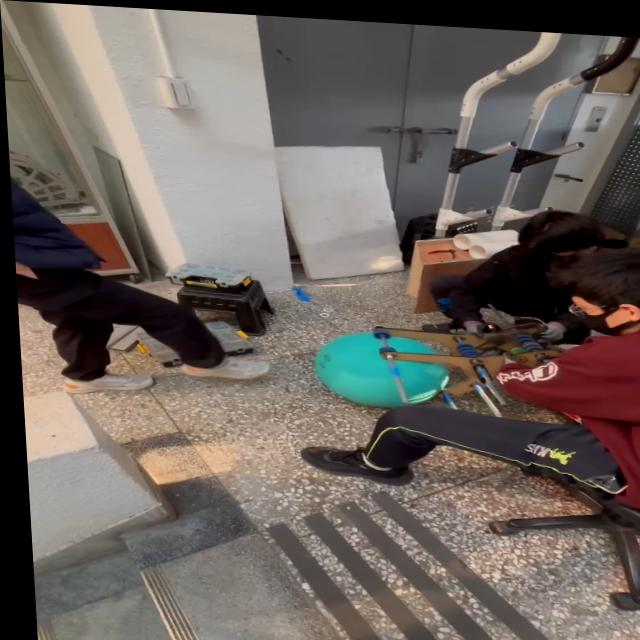ALGAE: (309, 326, 452, 412)
